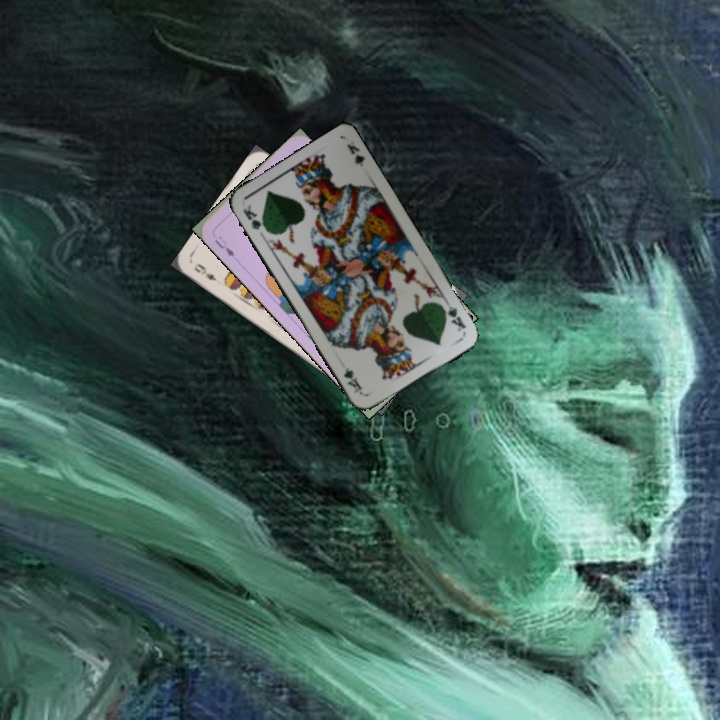E9: (190, 260, 219, 284)
EU: (210, 232, 237, 260)
GK: (437, 297, 468, 335), (239, 200, 270, 234)
